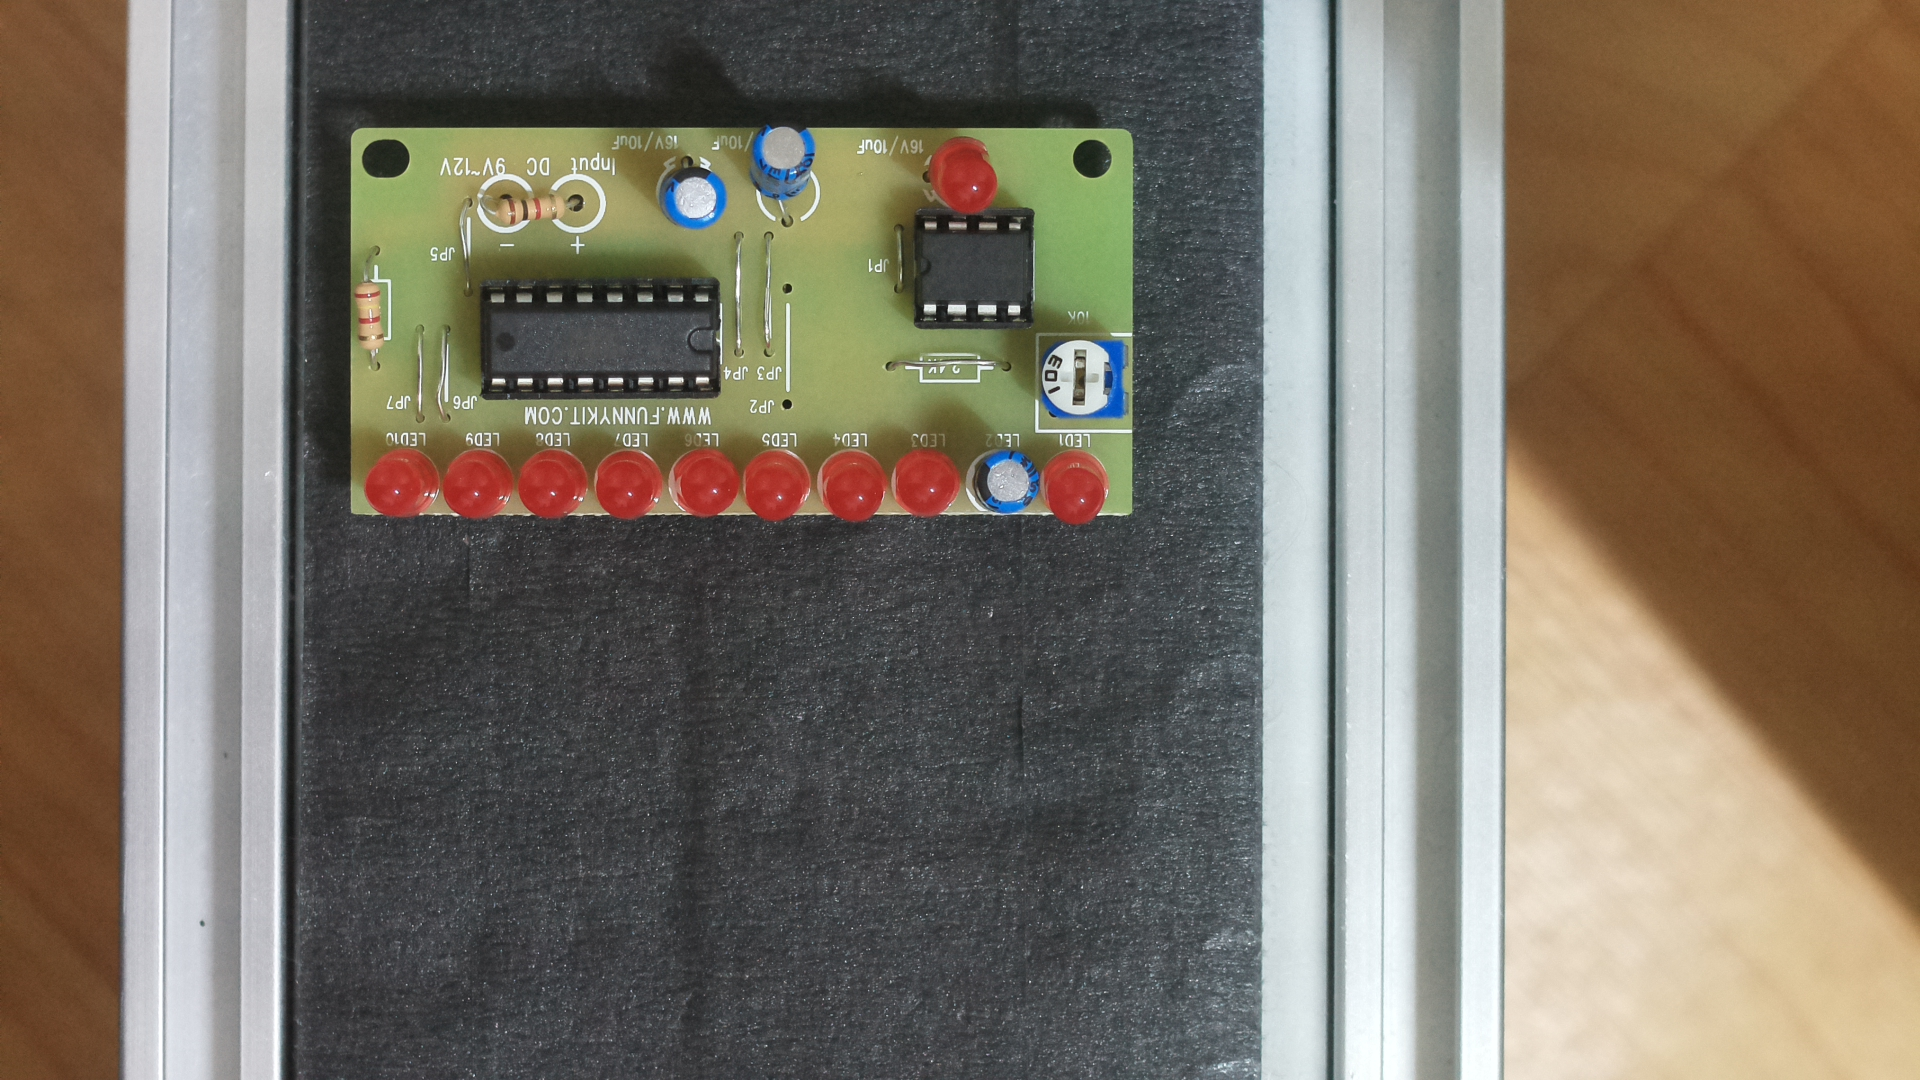B_Misordered: (330, 111, 1155, 535)
